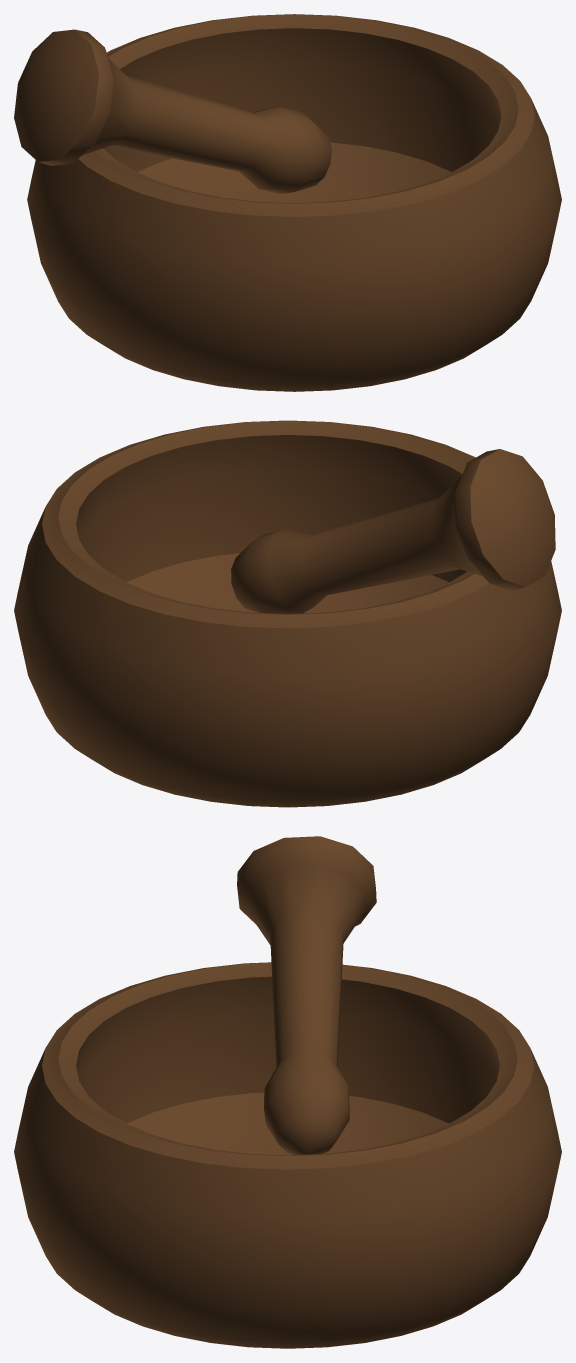
Rendered from KT_Asset_03.FBX.
The picture shows the model from 3 angles, top to bottom: view 1: azimuth 30°, elevation 25°; view 2: azimuth 150°, elevation 25°; view 3: azimuth 270°, elevation 25°; orthographic projection. The views are drawn at different scales.
Parts seen in each view (by area): view 1: KT_Asset_01; view 2: KT_Asset_01; view 3: KT_Asset_01.
Part boxes in pixels (x1,y1,x2,y2): KT_Asset_01: (14, 14, 561, 391); KT_Asset_01: (14, 420, 561, 807); KT_Asset_01: (14, 836, 561, 1348).
Bounding box in the file's own units: 0.1314 × 0.0794 × 0.1252.
